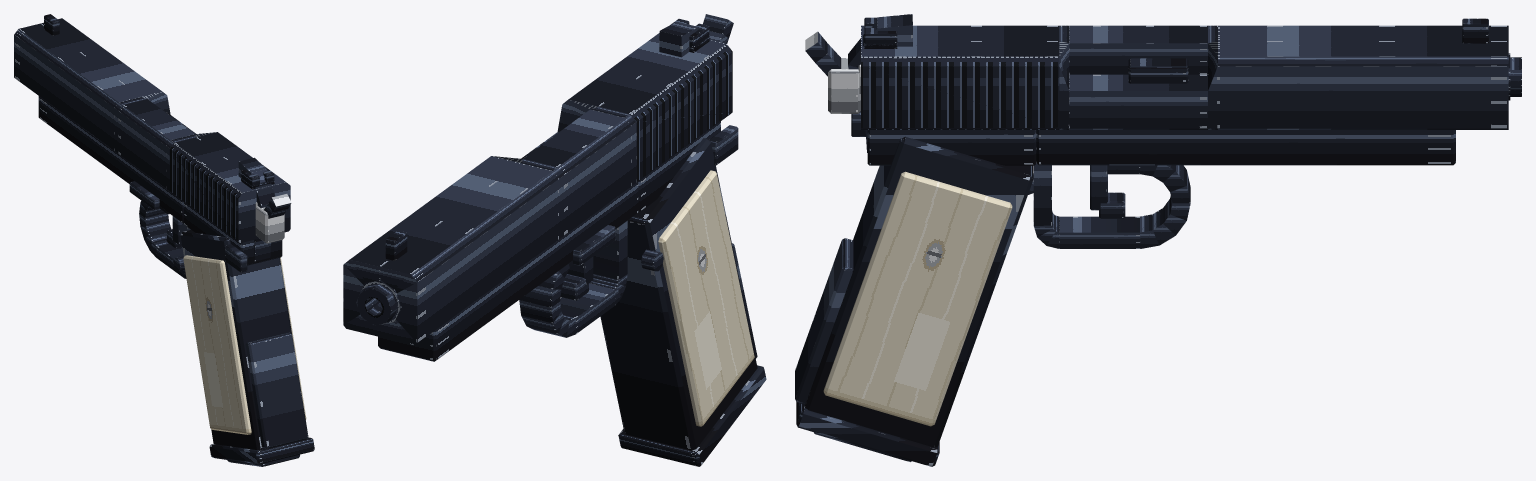
Rendered from pistol_1911_base.glb.
3 views of the same model, side by side, from view 1: azimuth 30°, elevation 25°; view 2: azimuth 150°, elevation 25°; view 3: azimuth 270°, elevation 25° (orthographic). The views are drawn at different scales.
Parts seen in each view (by area): view 1: frame, slide; view 2: frame, slide; view 3: frame, slide.
Boxes of the visible parts, x1,y1,x2,y2 form: frame: (38, 96, 314, 464); slide: (14, 14, 290, 243); frame: (356, 14, 766, 466); slide: (343, 18, 732, 345); frame: (795, 14, 1521, 466); slide: (861, 17, 1508, 129).
Bounding box in the file's own units: 0.0306 × 0.1435 × 0.22.
Materials: 2 (2 with a texture image).
